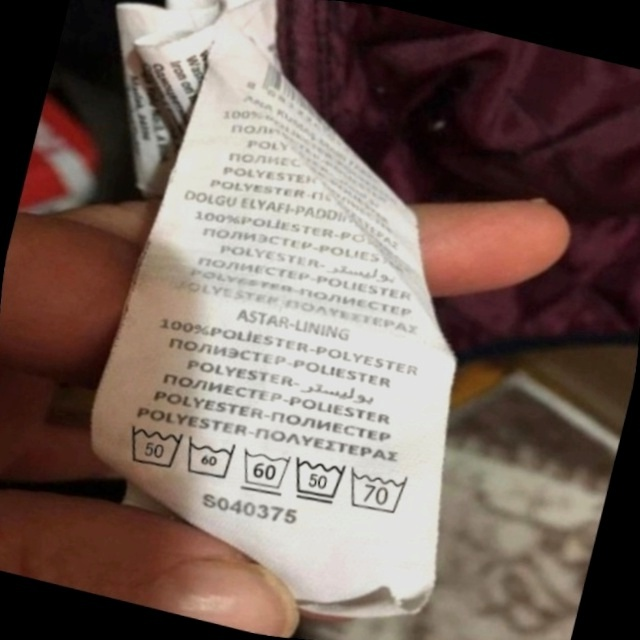50C: (110, 405, 199, 486), (278, 442, 360, 520)
60C: (227, 433, 306, 508), (172, 422, 250, 495)
70C: (336, 453, 425, 530)
